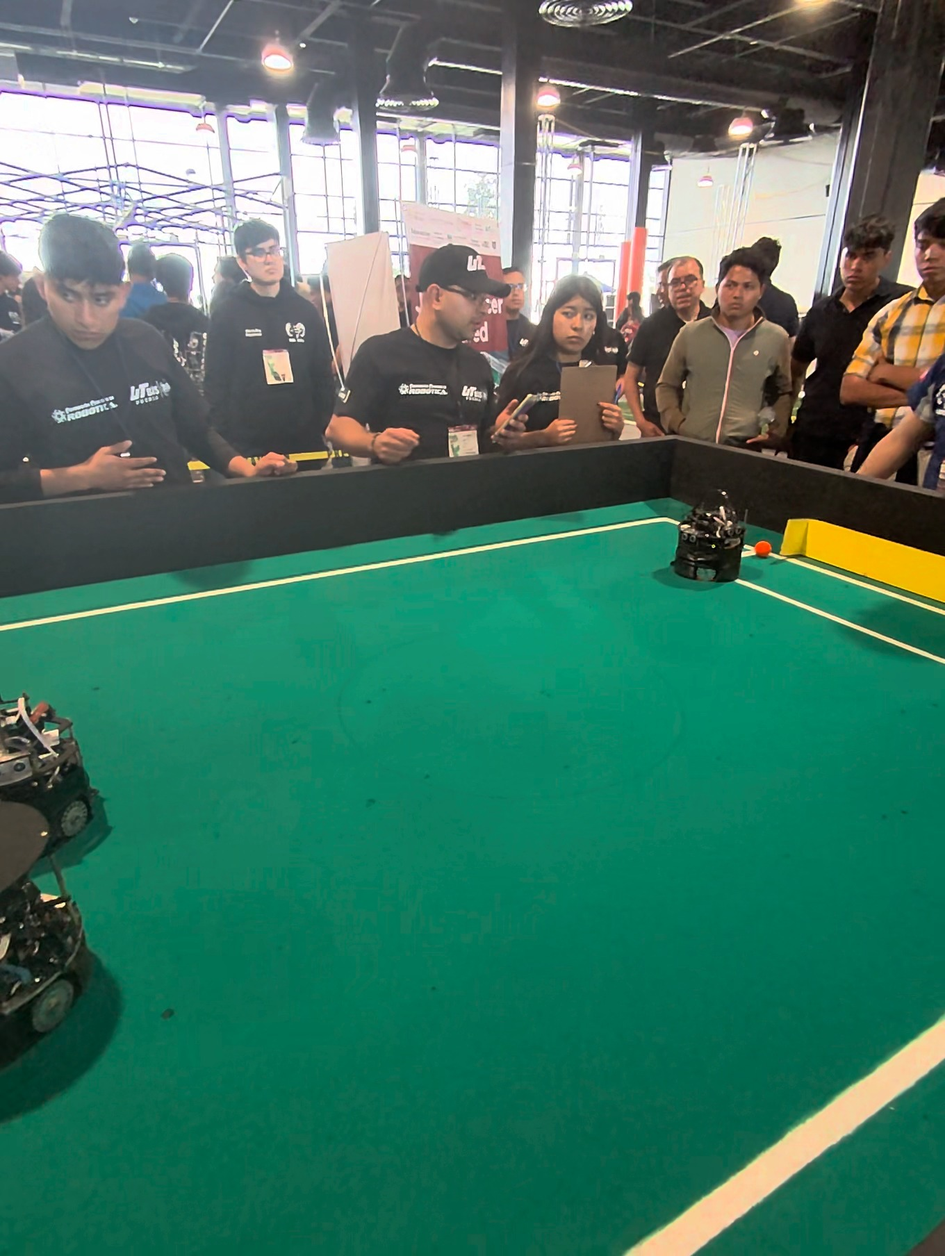Robot: (0, 857, 109, 1106), (0, 662, 107, 846), (671, 488, 750, 592)
pelota: (755, 540, 771, 558)
